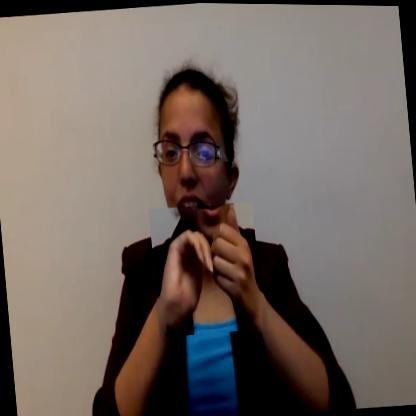HowAreYou: (149, 200, 264, 338)
